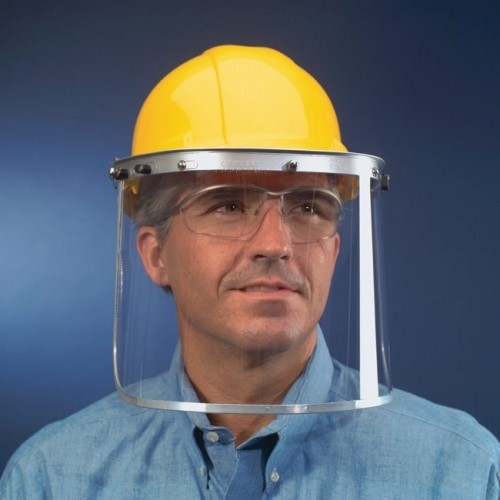face_no_mask: (132, 124, 343, 356)
